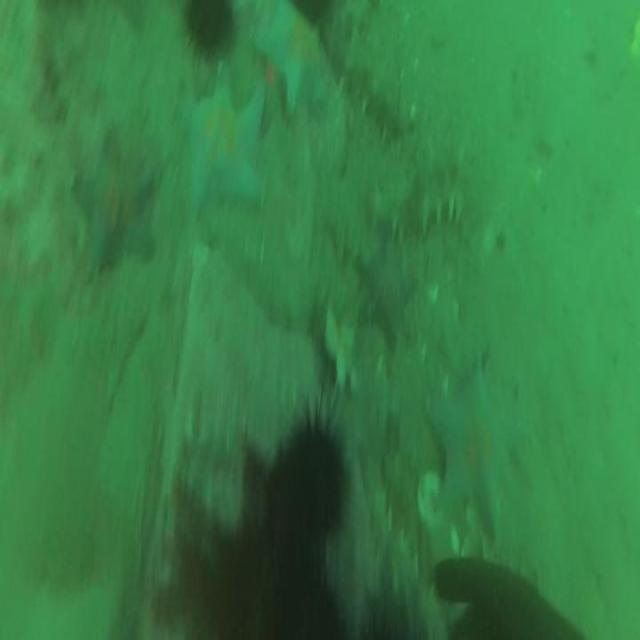echinus: (279, 433, 350, 534), (274, 564, 344, 640), (185, 5, 232, 52)
holothurian: (334, 33, 414, 139), (368, 160, 471, 238)
starfish: (428, 352, 526, 536), (180, 66, 270, 210), (74, 138, 154, 274), (257, 0, 328, 112), (353, 239, 416, 341)
